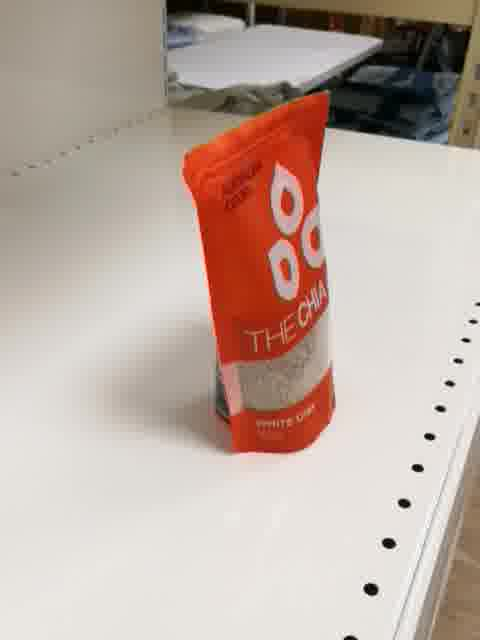whitechia: (180, 88, 340, 457)
